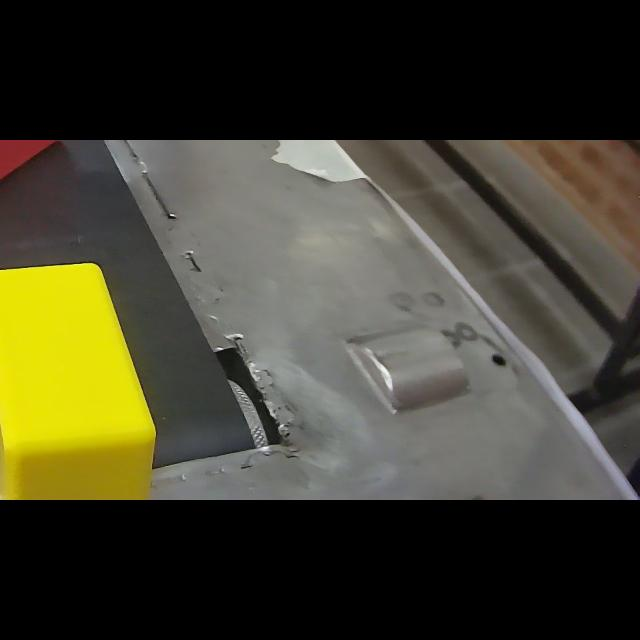redBox: (0, 140, 78, 210)
yellowBox: (0, 256, 160, 499)
